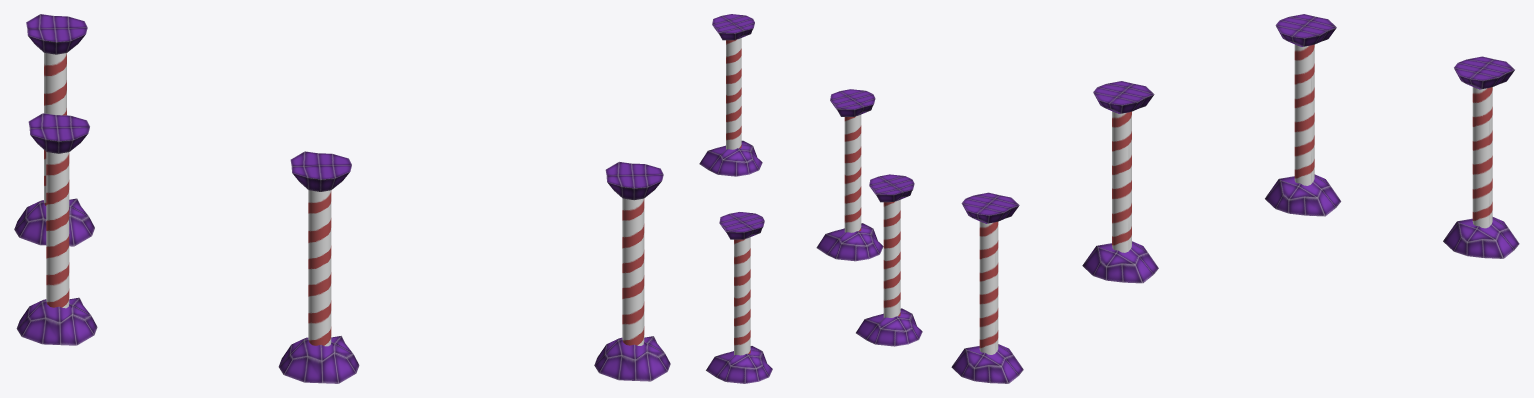
The model's file is m_environment2_candyPillar_an_4.fbx.
The picture shows the model from 3 angles, left to right: view 1: azimuth 30°, elevation 25°; view 2: azimuth 150°, elevation 25°; view 3: azimuth 270°, elevation 25°; orthographic projection. The views are drawn at different scales.
Parts seen in each view (by area): view 1: polySurface615; view 2: polySurface615; view 3: polySurface615.
Part boxes in pixels (x1=…): polySurface615: x1=14, y1=14, x2=670, y2=383; polySurface615: x1=699, y1=14, x2=922, y2=383; polySurface615: x1=951, y1=14, x2=1519, y2=383.
Size of the model in its own units: 48.4 by 19.94 by 58.63.
